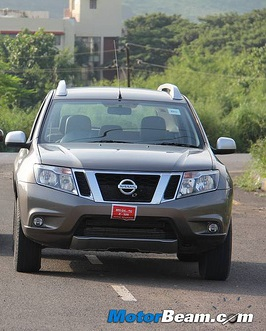blur: (113, 205, 135, 220)
